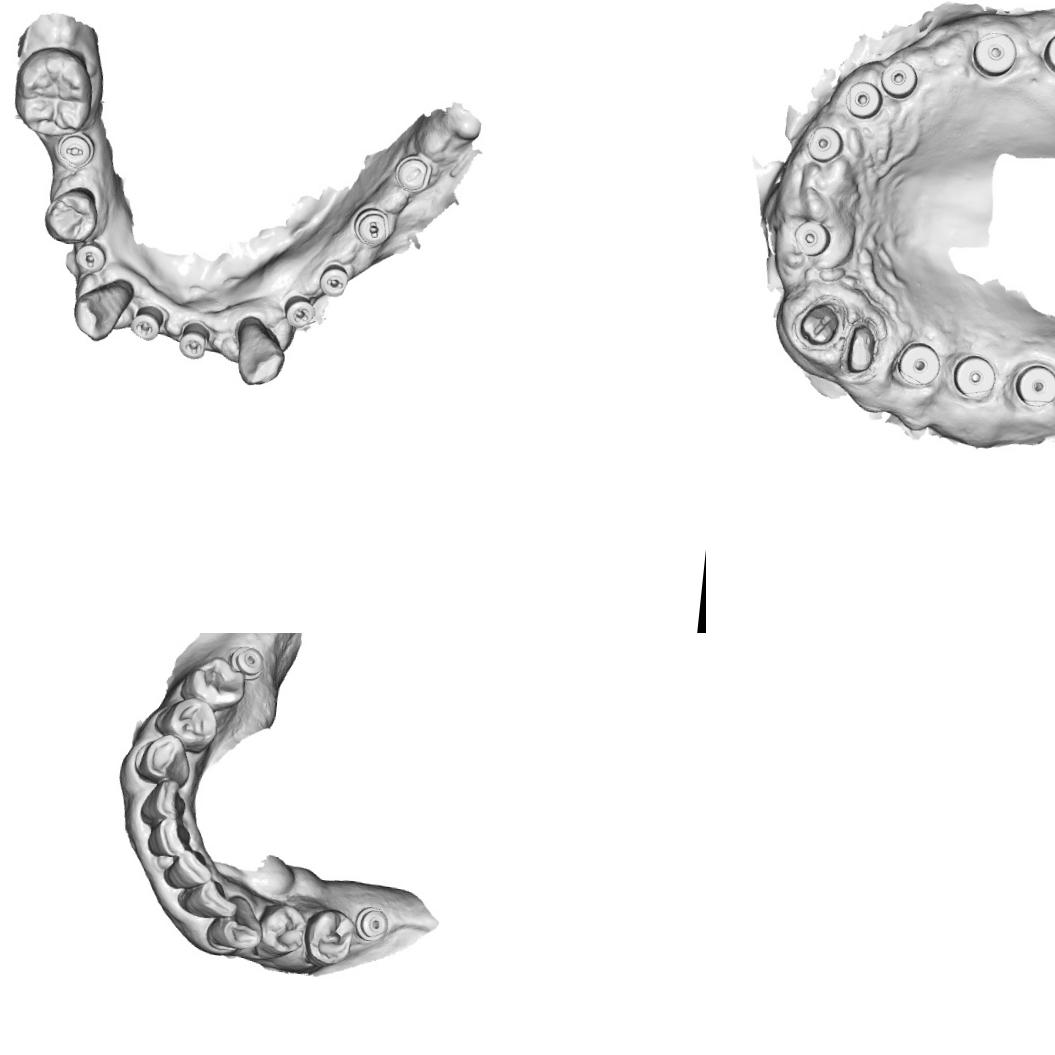canine: (69, 274, 136, 346), (231, 314, 291, 390), (204, 892, 268, 955), (132, 730, 195, 788)
crown: (790, 294, 850, 355), (836, 316, 882, 382)
implant: (968, 28, 1020, 83), (949, 351, 1000, 402), (892, 339, 943, 389), (1012, 359, 1055, 411), (877, 56, 921, 102), (842, 78, 884, 122), (804, 123, 846, 166), (224, 642, 268, 683), (790, 217, 832, 259), (352, 904, 392, 944), (1038, 25, 1055, 80)
implant_minus: (348, 203, 394, 248), (53, 128, 98, 174), (392, 152, 436, 196), (71, 238, 109, 276), (316, 262, 352, 300)
implant_plus: (176, 318, 213, 362), (280, 293, 320, 333), (128, 302, 166, 344)
incisor: (174, 875, 240, 923), (138, 776, 190, 828), (162, 844, 216, 892), (144, 813, 195, 862)
molar: (8, 40, 98, 140)
premolar: (150, 692, 222, 756), (178, 653, 249, 713), (40, 183, 102, 248), (300, 905, 358, 972), (253, 900, 308, 965)
